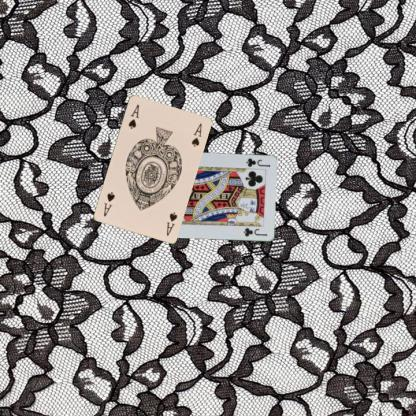As: (126, 102, 140, 130), (164, 209, 178, 236)
Jc: (244, 156, 272, 168)
